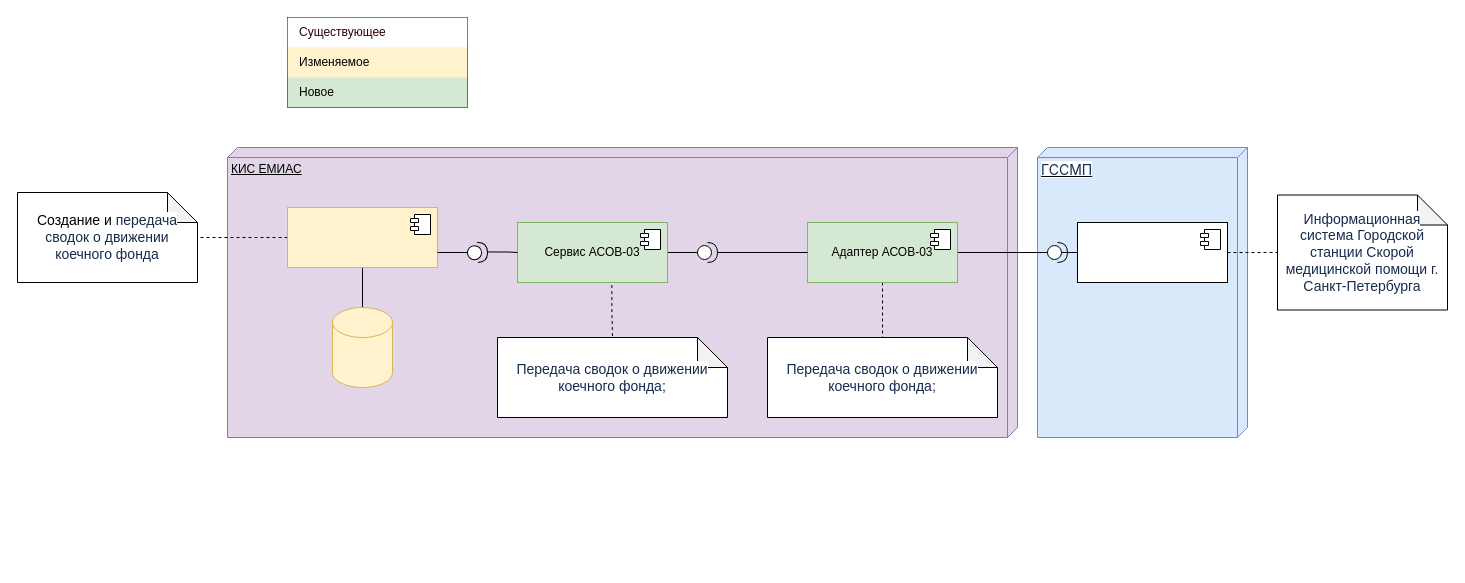
Image size: 1465x583. Some labels were removed from this diagram. Here are the shapes that lost their labels. From the top down, the centre of each, then its label:
At pixel 362 237: "Kis_z".
At pixel 1152 252: "АСОВ-03".
At pixel 362 347: "БД КИС".
